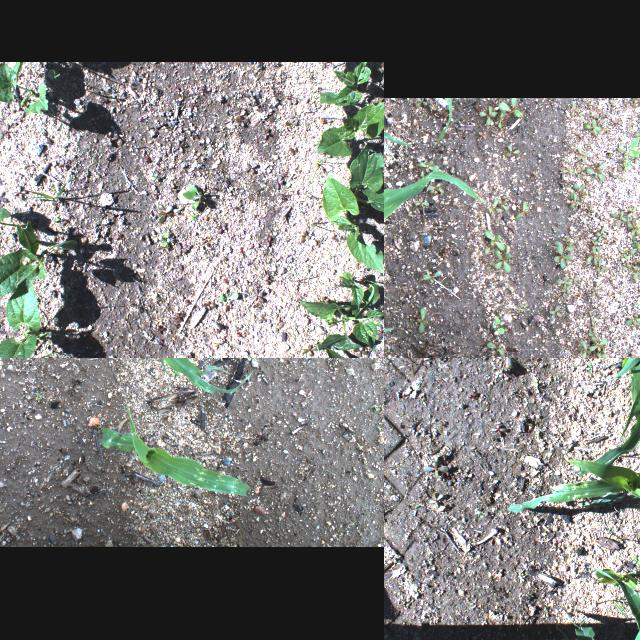crop: (384, 151, 483, 334), (98, 397, 250, 495), (507, 459, 640, 566), (554, 358, 640, 477), (296, 271, 384, 355), (322, 170, 384, 276), (113, 358, 269, 394), (584, 561, 640, 640), (315, 99, 384, 155), (0, 281, 49, 358), (0, 61, 49, 113), (349, 145, 384, 216), (321, 62, 372, 106), (24, 175, 74, 202), (384, 97, 411, 145), (563, 612, 597, 640), (436, 98, 452, 144)
weed: (0, 203, 78, 302), (496, 98, 524, 128), (592, 520, 626, 544), (584, 245, 608, 278), (180, 184, 206, 212), (598, 598, 628, 620), (492, 244, 512, 274), (623, 135, 640, 170), (553, 240, 573, 268), (483, 230, 505, 254), (477, 104, 499, 126), (422, 460, 448, 478), (173, 237, 193, 260), (586, 160, 606, 182), (232, 112, 252, 132), (555, 275, 573, 297), (514, 199, 530, 223), (156, 229, 170, 255), (154, 200, 172, 220), (252, 286, 270, 306), (242, 159, 260, 179), (588, 336, 608, 354), (270, 173, 286, 194), (416, 306, 428, 334), (414, 159, 438, 173), (570, 181, 588, 199), (171, 136, 187, 156), (582, 118, 602, 134), (219, 291, 241, 305), (212, 220, 230, 237), (299, 341, 316, 358), (576, 341, 593, 358), (200, 297, 218, 313), (610, 210, 626, 228), (100, 132, 120, 146), (486, 342, 506, 356), (487, 197, 501, 217), (300, 222, 312, 244), (146, 170, 164, 184), (422, 270, 443, 282), (594, 225, 608, 242), (170, 310, 184, 326), (152, 321, 166, 337), (548, 304, 562, 320), (426, 182, 444, 194), (504, 144, 522, 156), (627, 220, 640, 236), (498, 193, 510, 210), (290, 110, 302, 126), (284, 88, 296, 104), (492, 318, 504, 334), (414, 196, 431, 206), (110, 228, 124, 240), (628, 242, 640, 256), (578, 146, 588, 162), (570, 192, 580, 208), (632, 260, 640, 279), (260, 126, 272, 138), (263, 270, 273, 284), (286, 145, 300, 155), (167, 180, 176, 193), (414, 97, 428, 105), (586, 361, 594, 374), (589, 352, 606, 358), (624, 319, 640, 325), (190, 213, 204, 219), (520, 302, 528, 312), (632, 554, 640, 564), (476, 510, 484, 518), (172, 369, 180, 375), (369, 406, 381, 410), (36, 392, 40, 398), (376, 426, 382, 430)
